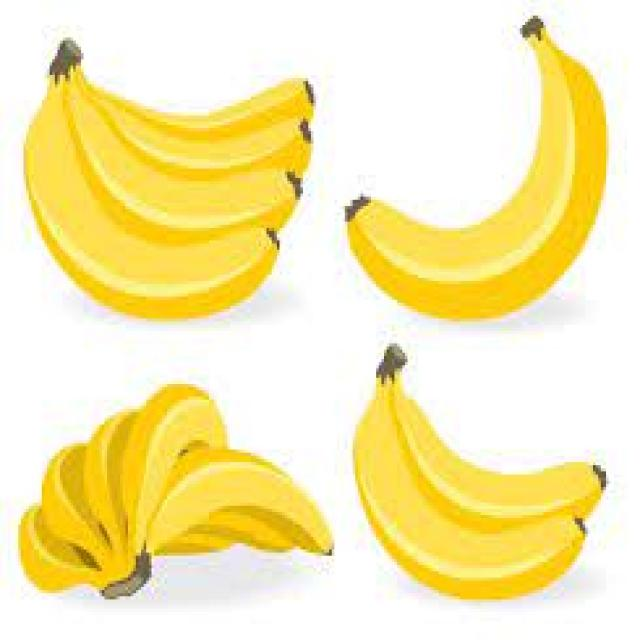Banana: (346, 21, 605, 317)
